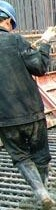boots: (51, 130, 56, 139), (52, 101, 56, 108)
gloves: (41, 26, 55, 43), (31, 38, 49, 50)
hard-hat: (0, 0, 17, 27)
ppe-suit: (1, 25, 55, 208)
